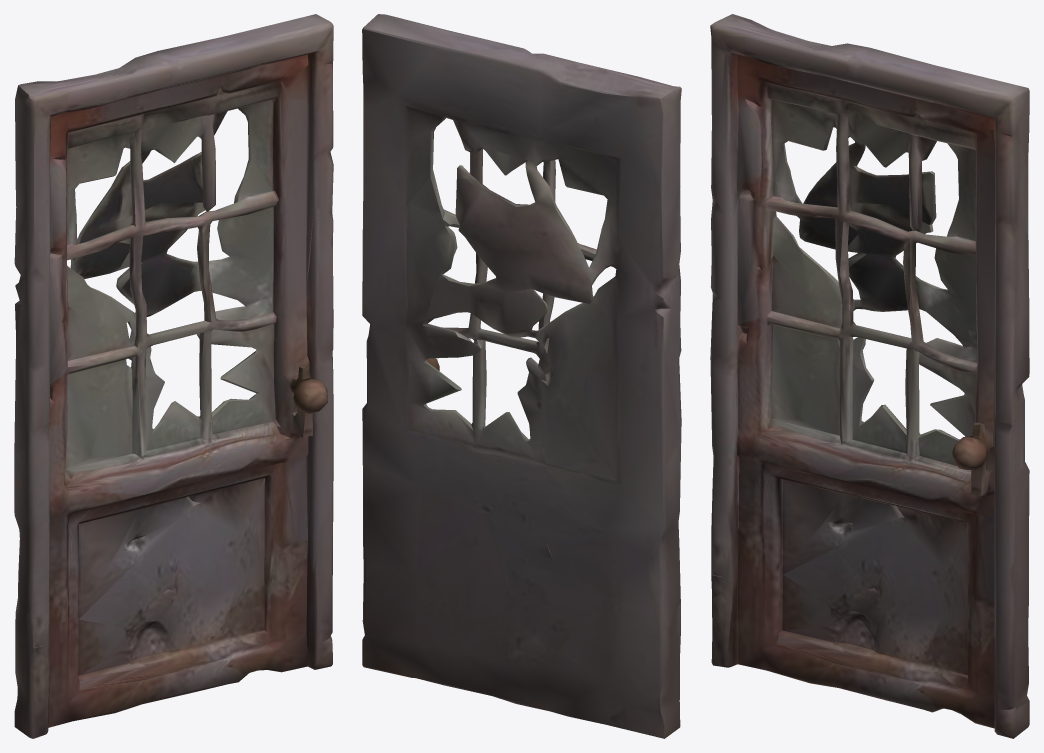
The model's file is door_8.glb.
The picture shows the model from 3 angles, left to right: view 1: azimuth 30°, elevation 25°; view 2: azimuth 150°, elevation 25°; view 3: azimuth 330°, elevation 25°; orthographic projection.
Visible parts, largest first — view 1: door; view 2: door; view 3: door.
Part boxes in pixels (<box>): door: <box>14,14,333,738</box>; door: <box>362,14,681,738</box>; door: <box>710,14,1029,738</box>.
Size of the model in its own units: 1.04 by 2.1 by 0.2669.
Materials: 1 (1 with a texture image).
